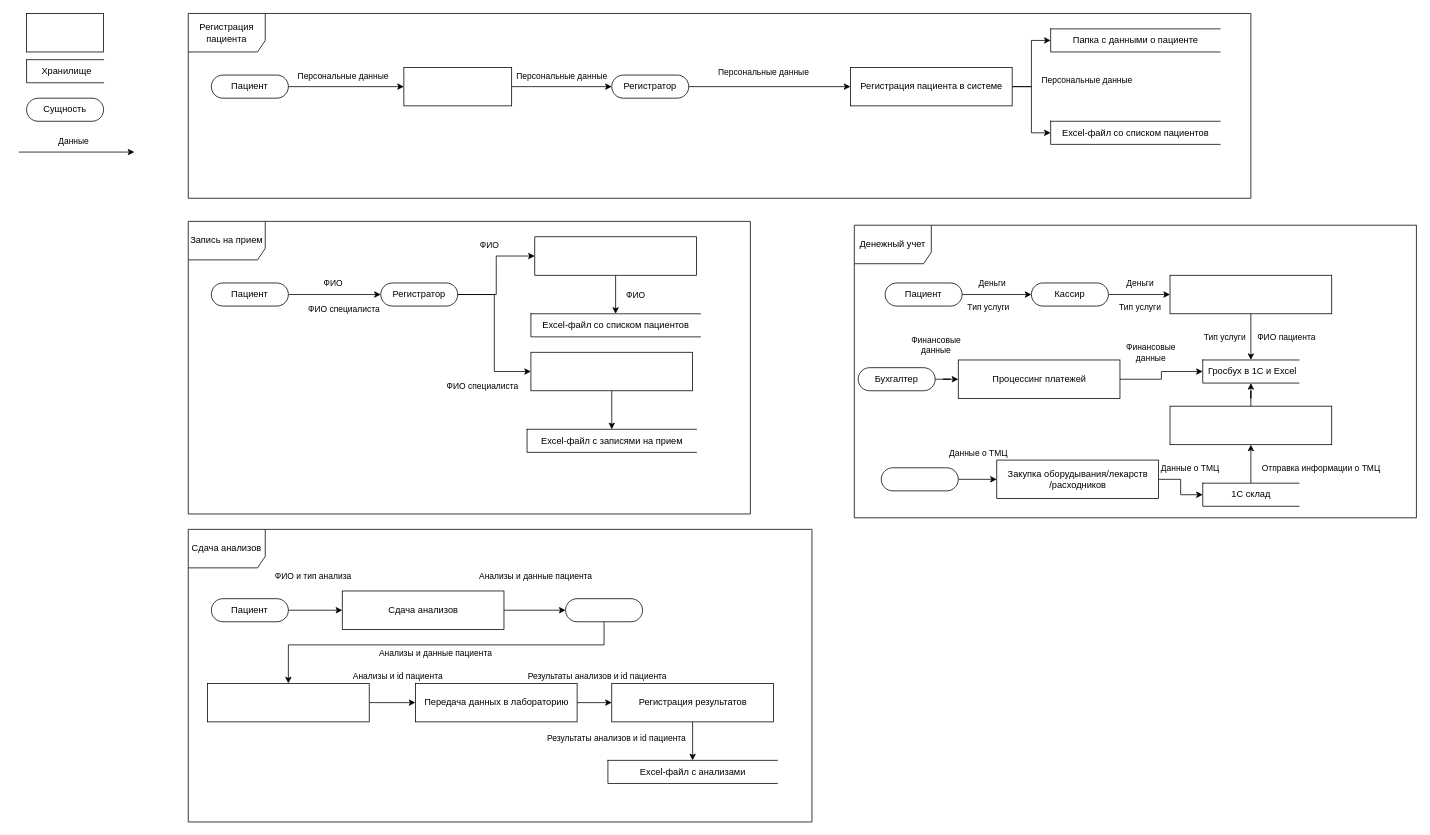
Image size: 1430x835. Some labels were removed from this diagram. Here are the shapes that lost their labels. From the top down, the centre of each, then its label:
At point (65, 32): "Процесс".
At point (457, 86): "Заполение анкеты".
At point (615, 255): "Поиск пациента в таблице".
At point (1250, 294): "Регистрация транзакции".
At point (611, 371): "Согласование времени для врача".
At point (1250, 425): "Добавление информации о ТМЦ".
At point (919, 479): "Провизор".
At point (604, 610): "Медицинский специалист".
At point (288, 702): "Обезличивание данных".
